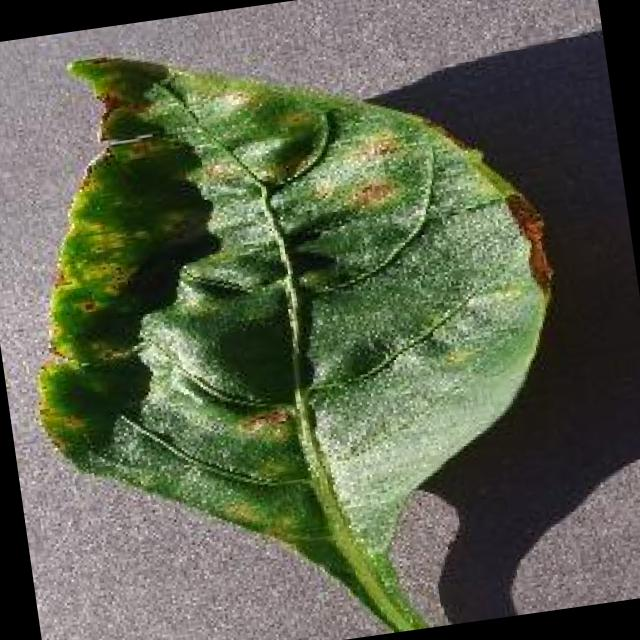Chilli_Bacterial_Spot: (0, 0, 604, 640), (19, 126, 236, 378), (25, 340, 159, 468), (223, 100, 339, 198), (60, 41, 176, 120), (498, 185, 558, 298), (343, 173, 403, 218), (349, 125, 404, 167), (202, 80, 254, 124), (432, 338, 484, 377), (68, 288, 102, 319)
